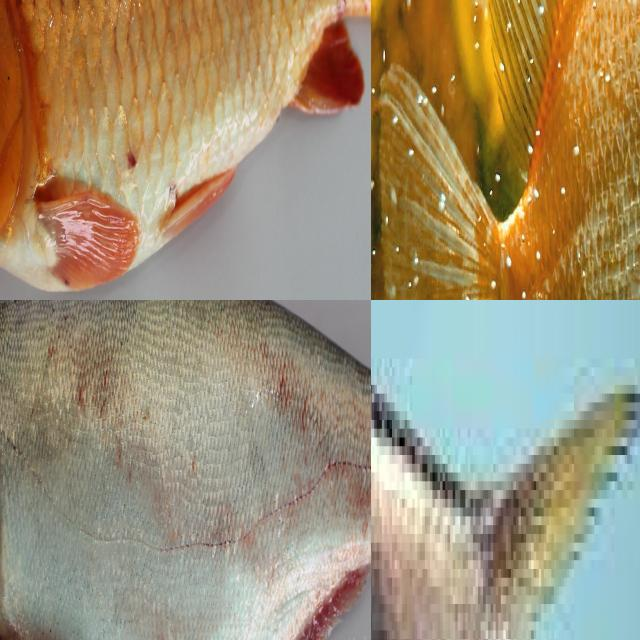fish: (0, 300, 371, 640), (0, 0, 371, 300), (371, 300, 640, 640), (371, 65, 640, 300)
